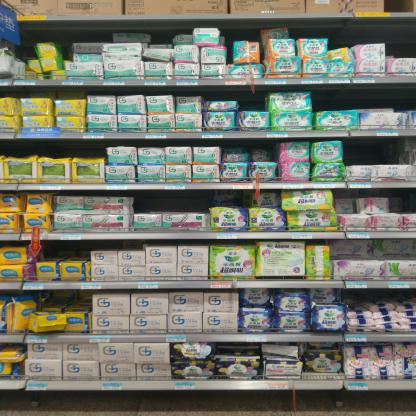Void: (320, 85, 412, 109), (331, 20, 415, 44), (24, 22, 108, 40), (343, 140, 403, 164), (134, 192, 206, 211), (1, 142, 96, 156), (37, 291, 87, 309), (352, 295, 414, 304), (200, 89, 241, 102), (392, 190, 414, 212), (247, 92, 263, 108)
